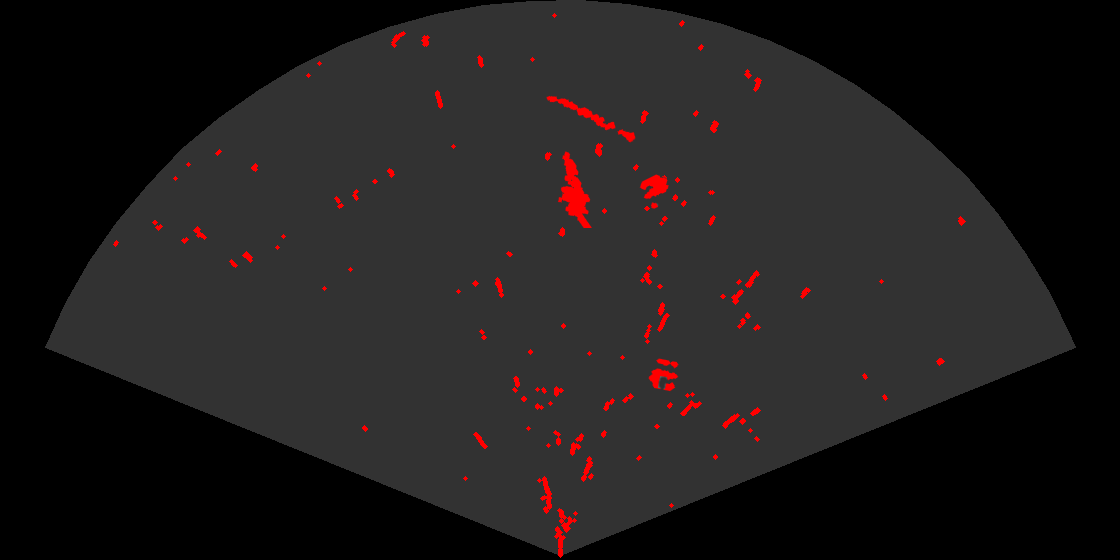ball: (647, 357, 680, 393), (638, 173, 670, 210)
chain: (545, 94, 637, 144)
frogman: (556, 150, 593, 228)
